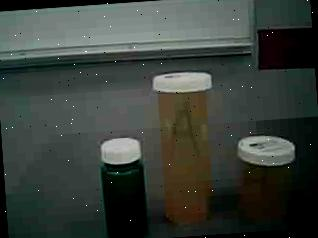Bottle A: (149, 65, 220, 230)
Bottle B: (227, 132, 304, 226)
Bottle C: (95, 130, 151, 238)
